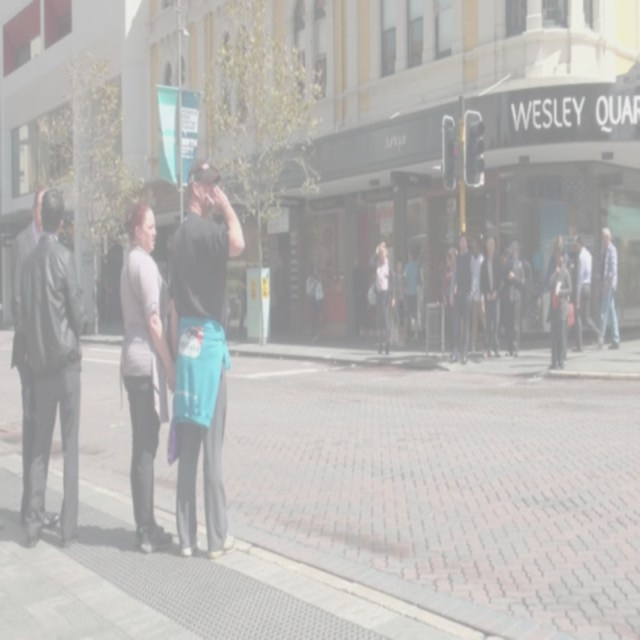pessoa: (164, 154, 246, 562), (18, 182, 85, 550), (118, 198, 180, 556), (8, 181, 61, 531), (590, 224, 622, 352), (448, 229, 477, 367), (570, 234, 602, 354), (365, 244, 397, 356), (478, 233, 506, 360), (546, 247, 572, 371), (500, 238, 524, 358), (467, 235, 488, 358), (441, 250, 458, 358), (402, 244, 420, 343), (391, 254, 408, 350), (545, 232, 571, 283), (429, 197, 457, 243), (236, 262, 252, 342), (274, 254, 288, 338), (304, 270, 318, 344), (353, 264, 364, 340), (92, 272, 105, 334), (562, 207, 586, 240), (524, 242, 542, 286), (404, 197, 426, 232), (416, 249, 425, 327), (314, 61, 326, 100), (376, 232, 390, 243), (160, 266, 168, 282), (467, 232, 473, 248)
